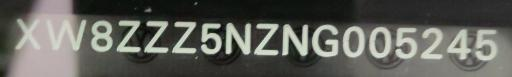letter: (44, 16, 88, 51), (280, 21, 310, 60), (310, 22, 340, 59), (12, 16, 42, 51), (170, 18, 198, 55), (252, 21, 280, 58), (114, 18, 142, 53), (142, 18, 170, 53), (444, 26, 472, 61), (472, 26, 500, 61), (418, 24, 444, 61), (224, 21, 252, 54), (88, 18, 114, 53), (366, 25, 392, 60), (340, 24, 366, 57), (394, 24, 418, 59), (200, 21, 222, 56)
